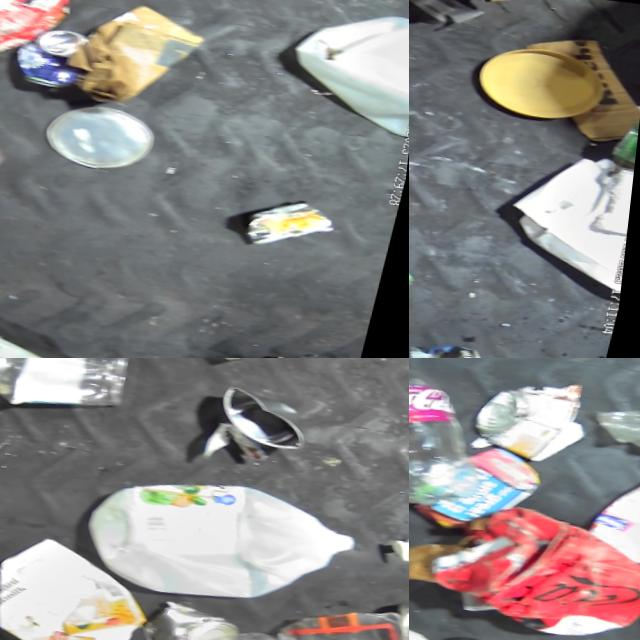can: (214, 384, 324, 454), (1, 22, 100, 91), (150, 604, 247, 640)
milk_jug: (87, 465, 385, 621), (276, 7, 409, 159), (0, 315, 127, 358)
non_white_jug: (0, 0, 89, 89)
plastic_bottle: (409, 358, 503, 511)
